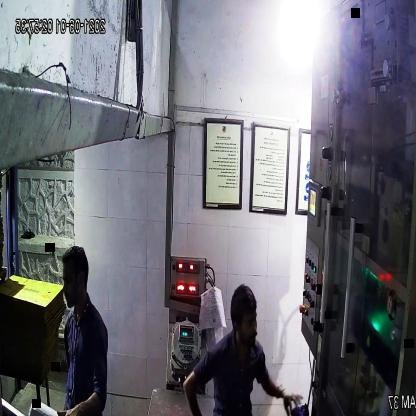no_goggles: (230, 310, 264, 331)
